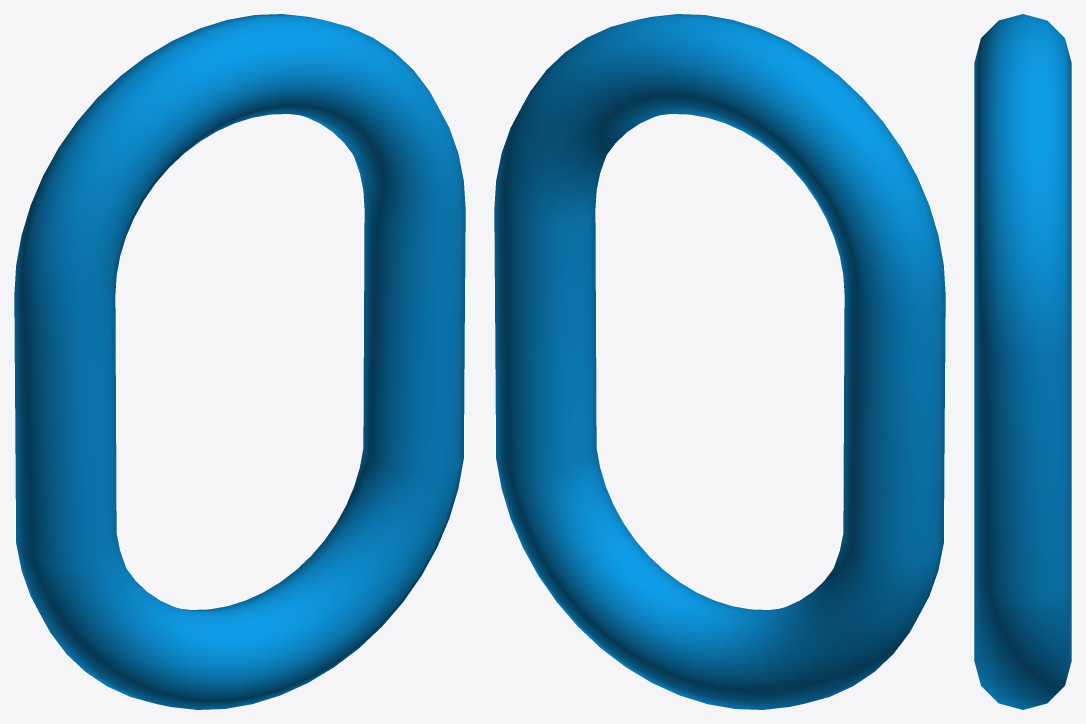
File: chain.fbx
The picture shows the model from 3 angles, left to right: view 1: azimuth 30°, elevation 25°; view 2: azimuth 150°, elevation 25°; view 3: azimuth 270°, elevation 25°; orthographic projection. The views are drawn at different scales.
Parts seen in each view (by area): view 1: Torus; view 2: Torus; view 3: Torus.
Boxes of the visible parts, x1=… form: Torus: x1=14, y1=14, x2=465, y2=709; Torus: x1=494, y1=14, x2=945, y2=709; Torus: x1=974, y1=14, x2=1071, y2=709.
Bounding box in the file's own units: 250 × 370 × 50.
